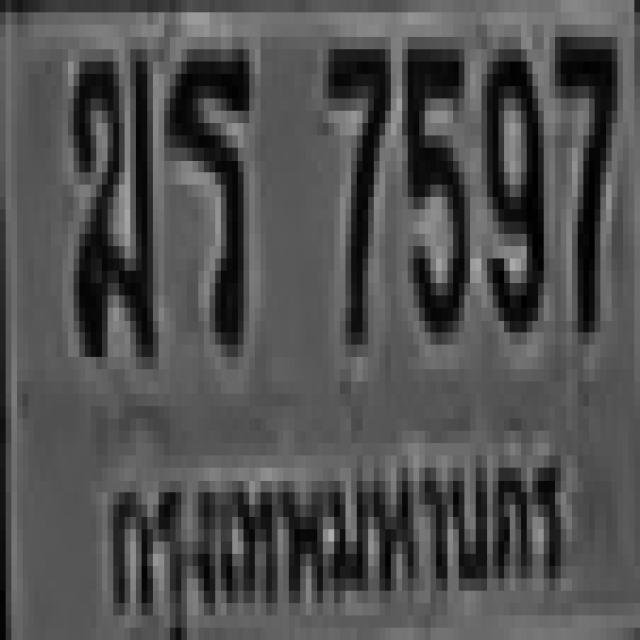15KhorRaKhang: (68, 37, 153, 345)
44RorRuea: (164, 37, 249, 345)
5: (402, 31, 465, 326)
7: (323, 31, 385, 338), (549, 25, 612, 320)
9: (481, 37, 538, 320)
Bangkok: (89, 436, 572, 640)
